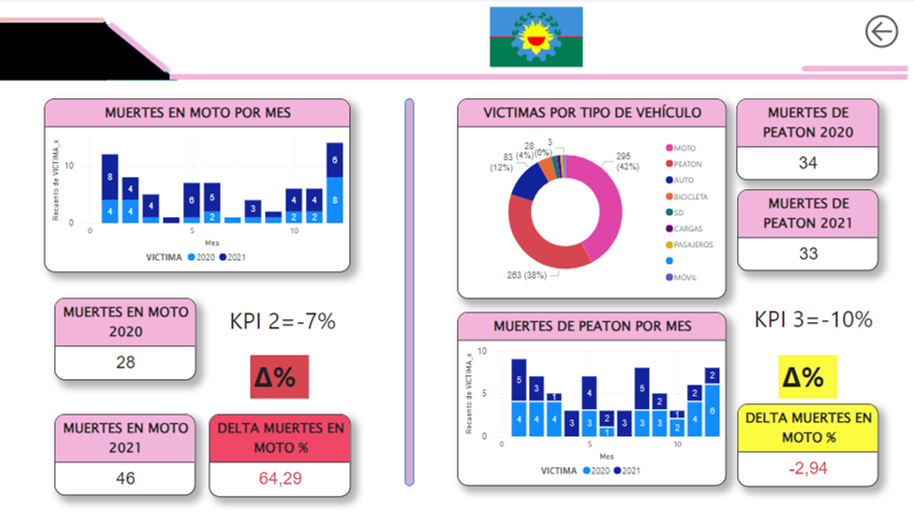

Layout of this report page (visuals, bound fields, positions):
{"tool":"powerbi","page":{"name":"KPI 2-3","canvas":[1280,720],"ordinal":3},"visuals":[{"type":"image","box":[681.3,0,140.4,107.4],"z":0},{"type":"shape","box":[146.3,32.8,103,82.1],"z":1000},{"type":"shape","box":[0,32.8,149.3,82.1],"z":2000},{"type":"shape","box":[0,25.6,148.9,7.8],"z":3000},{"type":"shape","box":[141.6,22.9,105.8,91.5],"z":4000},{"type":"shape","box":[1120.6,93.7,149.2,7.9],"z":5000},{"type":"shape","box":[238.8,65.8,1031.2,88.7],"z":6000},{"type":"donutChart","title":"VICTIMAS POR TIPO DE VEHÍCULO","fields":{"Y":["CountNonNull(hechos_victimas_depurados.ID)"],"Category":["hechos_victimas_depurados.VICTIMA_x"]},"box":[639.9,140.2,376.1,280.3],"z":7000},{"type":"columnChart","title":"MUERTES DE PEATON POR MES","fields":{"Category":["Calendario.Mes"],"Y":["CountNonNull(hechos_victimas_depurados.VICTIMA_x)"],"Series":["Calendario.Año"]},"box":[639.9,439.1,376.1,243.1],"z":8000},{"type":"card","title":"MUERTES DE PEATON 2020","fields":{"Values":["hechos_victimas_depurados.Muertes_peatones_2020"]},"box":[1030.2,140.2,198.8,114.4],"z":9000},{"type":"card","title":"MUERTES DE PEATON 2021","fields":{"Values":["hechos_victimas_depurados.Muertes_peatones_2021"]},"box":[1031.6,267.4,197.4,114.4],"z":10000},{"type":"card","title":"DELTA MUERTES EN MOTO %","fields":{"Values":["hechos_victimas_depurados.Delta_muertes_peatones"]},"box":[1031.6,566.3,197.4,115.8],"z":11000},{"type":"textbox","box":[1088.8,499.1,81.5,61.5],"z":12000},{"type":"columnChart","title":"MUERTES EN MOTO POR MES","fields":{"Category":["Calendario.Mes"],"Y":["CountNonNull(hechos_victimas_depurados.VICTIMA_x)"],"Series":["Calendario.Año"]},"box":[63.4,140.2,427.6,243.1],"z":13000},{"type":"card","title":"MUERTES EN MOTO 2020","fields":{"Values":["hechos_victimas_depurados.Muertes_motos_2020"]},"box":[76.6,418.4,197.7,115.2],"z":14000},{"type":"card","title":"MUERTES EN MOTO 2021","fields":{"Values":["hechos_victimas_depurados.Muertes_motos_2021"]},"box":[77.7,580.6,197.4,114.4],"z":15000},{"type":"card","title":"DELTA MUERTES EN MOTO %","fields":{"Values":["hechos_victimas_depurados.Delta_muertes_motos"]},"box":[293.2,580.6,198.2,115.6],"z":16000},{"type":"textbox","box":[351,498.3,81.5,61.5],"z":17000},{"type":"textbox","box":[316.5,421.9,163,71.5],"z":18000},{"type":"textbox","box":[1049.7,419,197.4,71.5],"z":19000},{"type":"shape","box":[566.3,140.2,12.9,542],"z":20000},{"type":"actionButton","box":[1195.1,7.2,79.7,76.6],"z":20001}]}

Visuals, with their boxes in screenshot pixels (x1, y1, x2, y2), scaled from the page's 1280x720 canvas onto the 914x512 screenshot:
image: box(486, 0, 587, 76)
shape: box(104, 23, 178, 82)
shape: box(0, 23, 107, 82)
shape: box(0, 18, 106, 24)
shape: box(101, 16, 177, 81)
shape: box(800, 67, 907, 72)
shape: box(171, 47, 907, 110)
"VICTIMAS POR TIPO DE VEHÍCULO" donutChart: box(457, 100, 725, 299)
"MUERTES DE PEATON POR MES" columnChart: box(457, 312, 725, 485)
"MUERTES DE PEATON 2020" card: box(736, 100, 878, 181)
"MUERTES DE PEATON 2021" card: box(737, 190, 878, 272)
"DELTA MUERTES EN MOTO %" card: box(737, 403, 878, 485)
textbox: box(777, 355, 836, 399)
"MUERTES EN MOTO POR MES" columnChart: box(45, 100, 351, 273)
"MUERTES EN MOTO 2020" card: box(55, 298, 196, 379)
"MUERTES EN MOTO 2021" card: box(55, 413, 196, 494)
"DELTA MUERTES EN MOTO %" card: box(209, 413, 351, 495)
textbox: box(251, 354, 309, 398)
textbox: box(226, 300, 342, 351)
textbox: box(750, 298, 891, 349)
shape: box(404, 100, 414, 485)
actionButton: box(853, 5, 910, 60)
